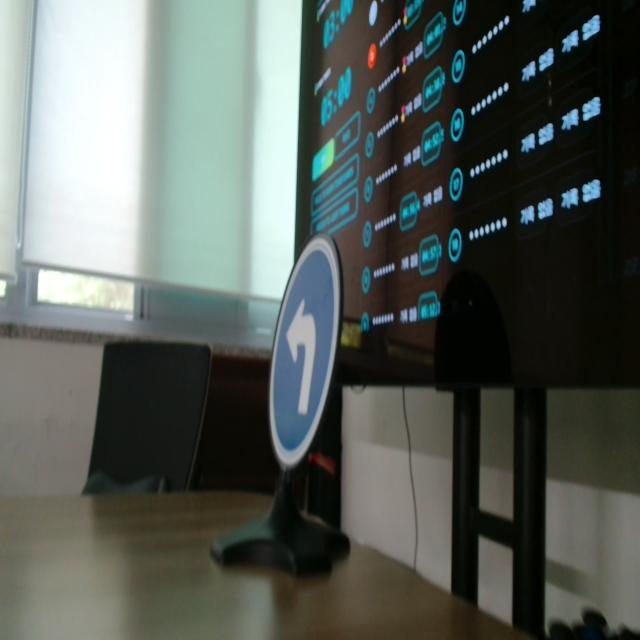left_direction: (258, 241, 346, 470)
